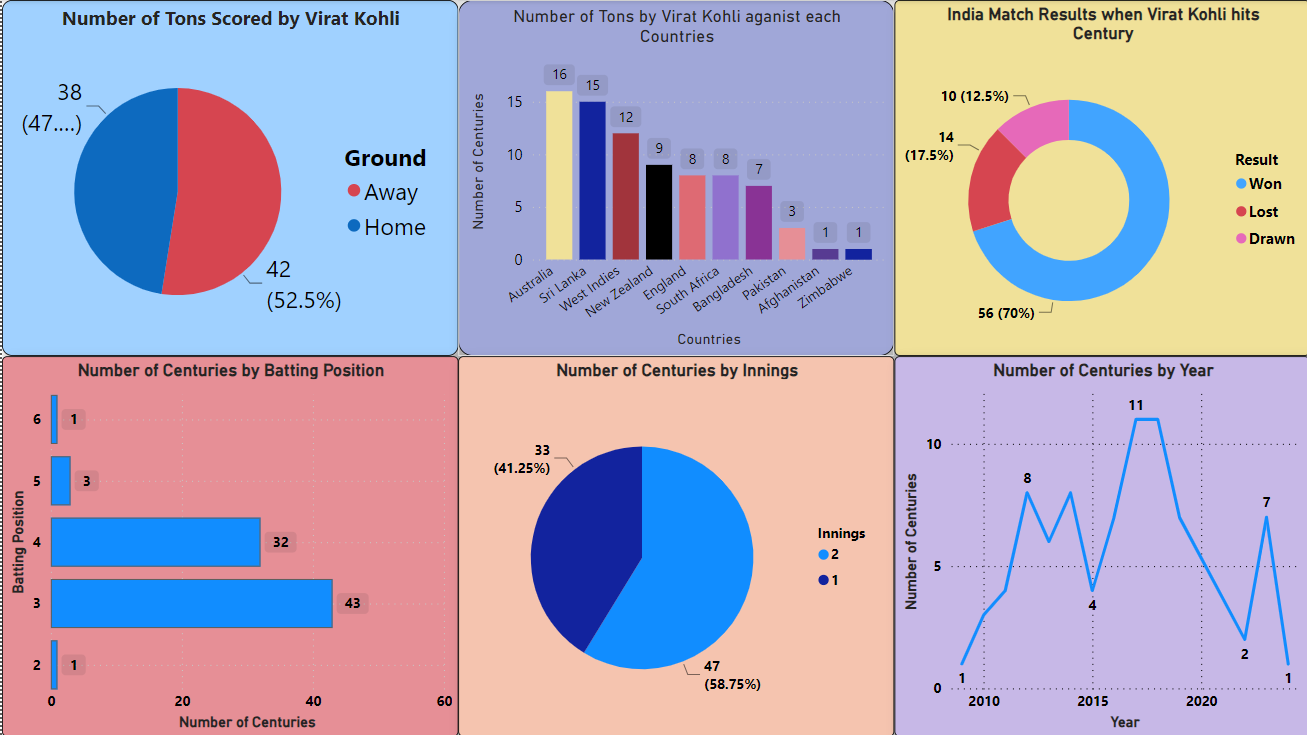

The page's visual inventory and layout, read from the dashboard file:
{"tool":"powerbi","page":{"name":"Page 1","canvas":[1280,720],"ordinal":0},"visuals":[{"type":"pieChart","title":"Number of Tons Scored by Virat Kohli ","fields":{"Category":["vkdata.Ground"],"Y":["vkdata.Runs"]},"box":[0,0,446.2,348.4],"z":0},{"type":"clusteredColumnChart","title":"Number of Tons by Virat Kohli aganist each Countries","fields":{"Category":["vkdata.Against"],"Y":["vkdata.Runs"]},"box":[446.2,0,426.6,348.4],"z":1},{"type":"donutChart","title":"India Match Results when Virat Kohli hits Century","fields":{"Category":["vkdata.Result"],"Y":["vkdata.Runs"]},"box":[872.8,0,407.1,348.4],"z":2},{"type":"clusteredBarChart","title":"Number of Centuries by Batting Position","fields":{"Y":["vkdata.Runs"],"Category":["vkdata.Position"]},"box":[0,348.4,446.2,371.6],"z":3},{"type":"pieChart","title":"Number of Centuries by Innings","fields":{"Y":["vkdata.Runs"],"Category":["vkdata.Innings"]},"box":[446.2,348.4,426.6,371.6],"z":4},{"type":"lineChart","title":"Number of Centuries by Year","fields":{"Category":["vkdata.Date.Variation.Date Hierarchy.Year"],"Y":["vkdata.Runs"]},"box":[872.8,348.4,407.1,371.6],"z":5}]}

Visuals, with their boxes in screenshot pixels (x1, y1, x2, y2), scaled from the page's 1280x720 canvas onto the 1307x735 screenshot:
"Number of Tons Scored by Virat Kohli " pieChart: box(0, 0, 456, 356)
"Number of Tons by Virat Kohli aganist each Countries" clusteredColumnChart: box(456, 0, 891, 356)
"India Match Results when Virat Kohli hits Century" donutChart: box(891, 0, 1306, 356)
"Number of Centuries by Batting Position" clusteredBarChart: box(0, 356, 456, 734)
"Number of Centuries by Innings" pieChart: box(456, 356, 891, 734)
"Number of Centuries by Year" lineChart: box(891, 356, 1306, 734)
